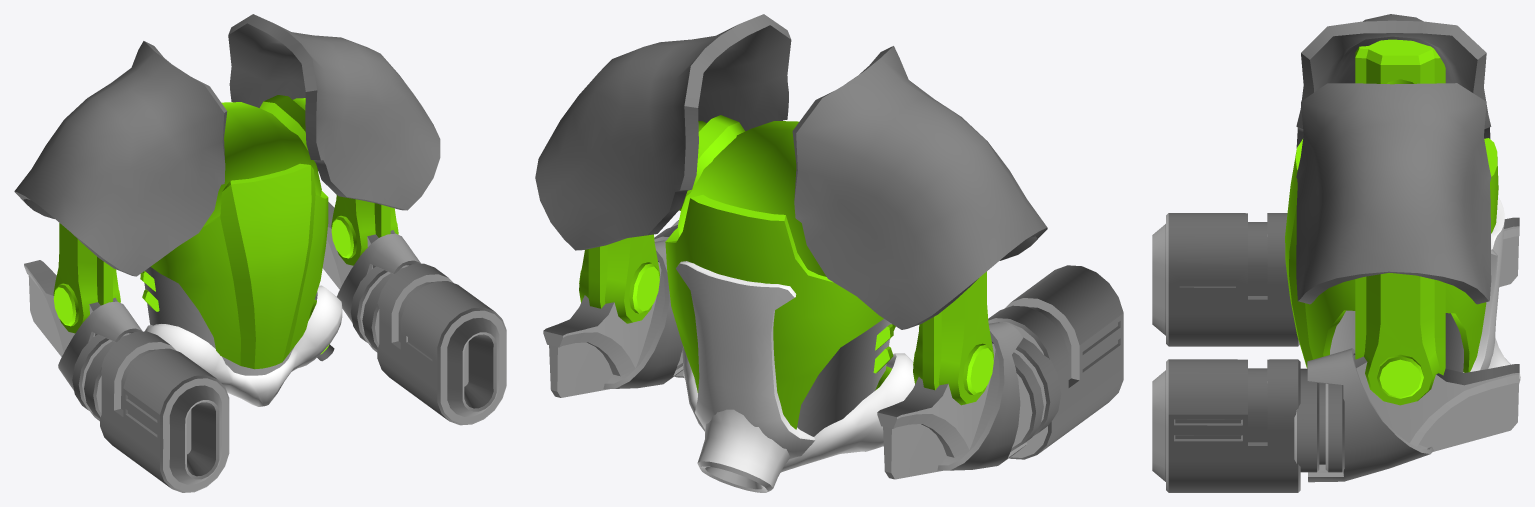
File: flying_enemy.FBX
3 views of the same model, side by side, from view 1: azimuth 30°, elevation 25°; view 2: azimuth 150°, elevation 25°; view 3: azimuth 270°, elevation 25° (orthographic). The views are drawn at different scales.
Visible parts, largest first — view 1: Flying_enemy; view 2: Flying_enemy; view 3: Flying_enemy.
Part boxes in pixels (<box>): Flying_enemy: <box>14,14,506,492</box>; Flying_enemy: <box>535,14,1123,492</box>; Flying_enemy: <box>1152,14,1520,492</box>.
Size of the model in its own units: 189 by 159 by 145.
